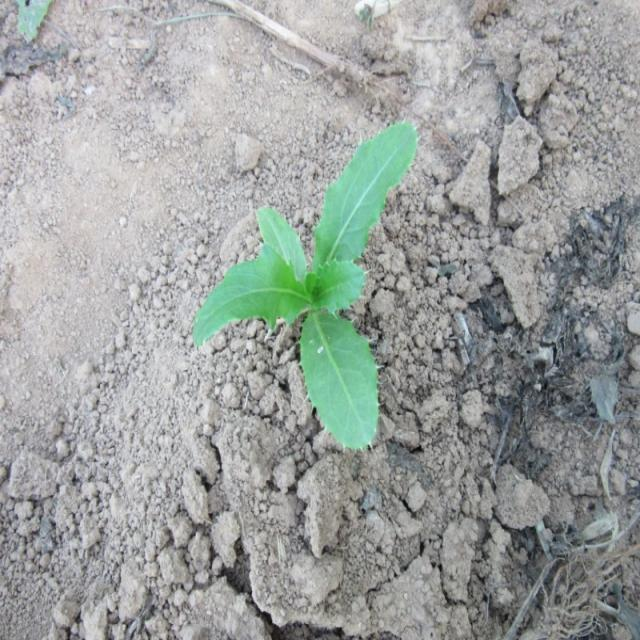cs: (190, 118, 421, 458)
